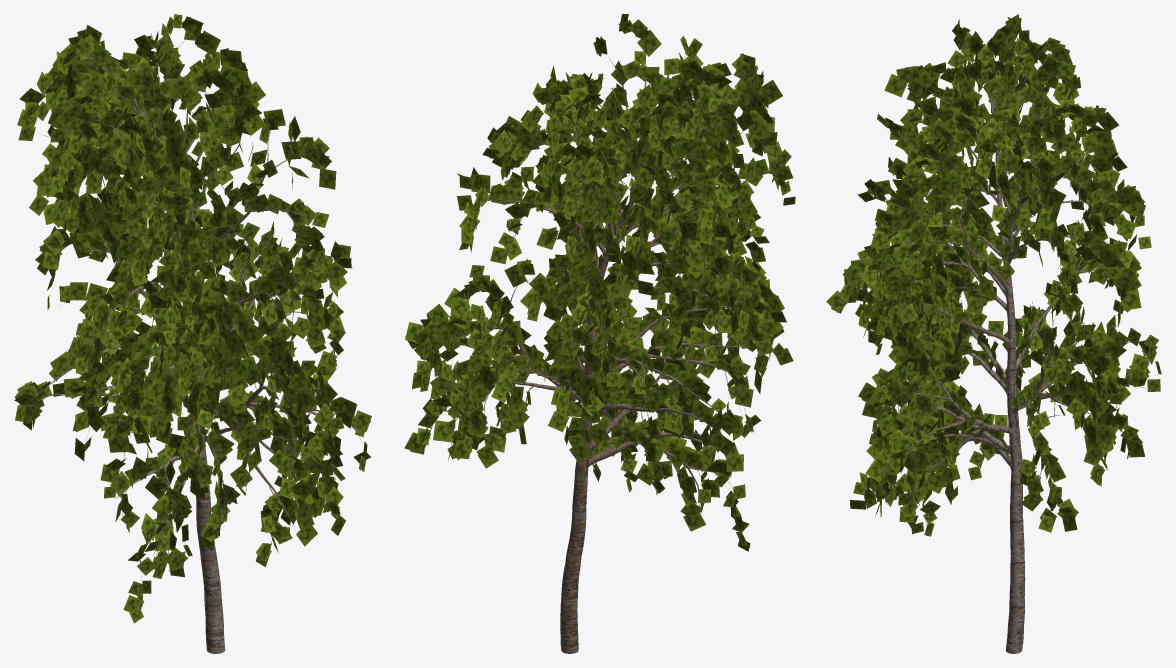
Rendered from tree3.glb.
The picture shows the model from 3 angles, left to right: view 1: azimuth 30°, elevation 25°; view 2: azimuth 150°, elevation 25°; view 3: azimuth 270°, elevation 25°; orthographic projection. The views are drawn at different scales.
Visible parts, largest first — view 1: Birch Tree.001; view 2: Birch Tree.001; view 3: Birch Tree.001.
Part boxes in pixels (x1,y1,x2,y2): Birch Tree.001: (14,14,371,653); Birch Tree.001: (404,14,795,653); Birch Tree.001: (826,14,1161,653).
Size of the model in its own units: 8.87 by 16.23 by 8.4.
Materials: 2 (2 with a texture image).
